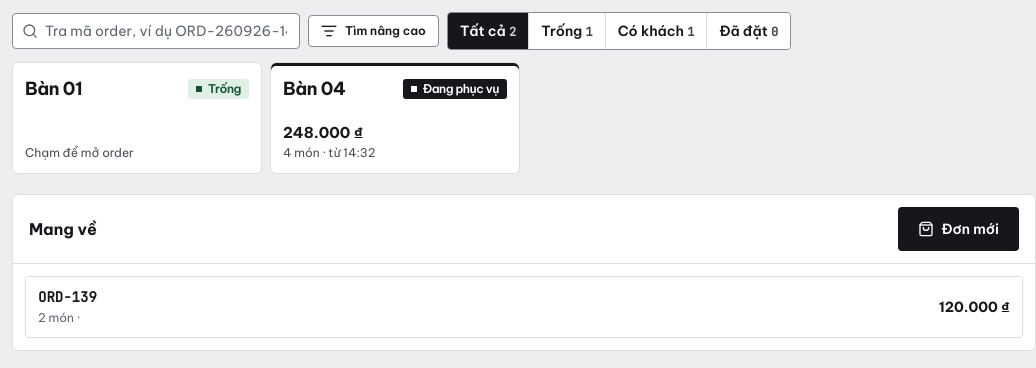
it: FloorStep › filters tables by status
This screenshot has width=1036, height=368.
expect the button "Bàn 04 Đang phục vụ 248.000 ₫ 4 món · từ 14:32" is shown: met, box [270,62,520,174]
Click the button "Trống 1".
click(566, 31)  # box [528,13,605,49]
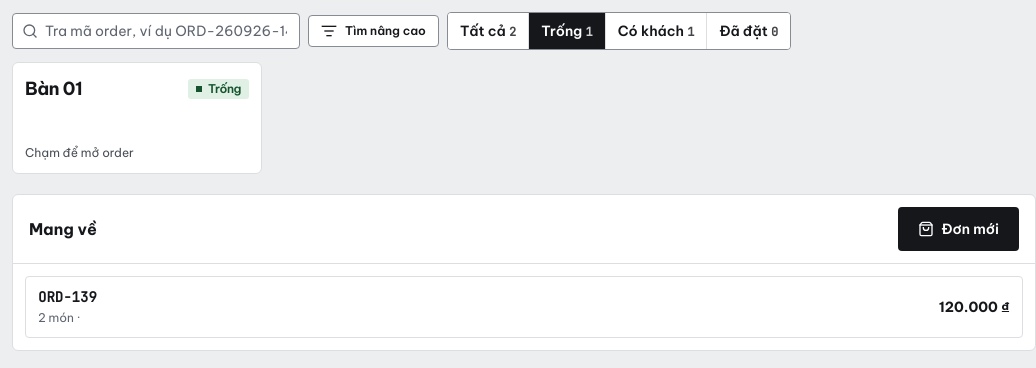
expect the button "Bàn 01 Trống Chạm để mở order" is shown: met, box [12,62,262,174]
expect the button "Bàn 04" is gone: met
